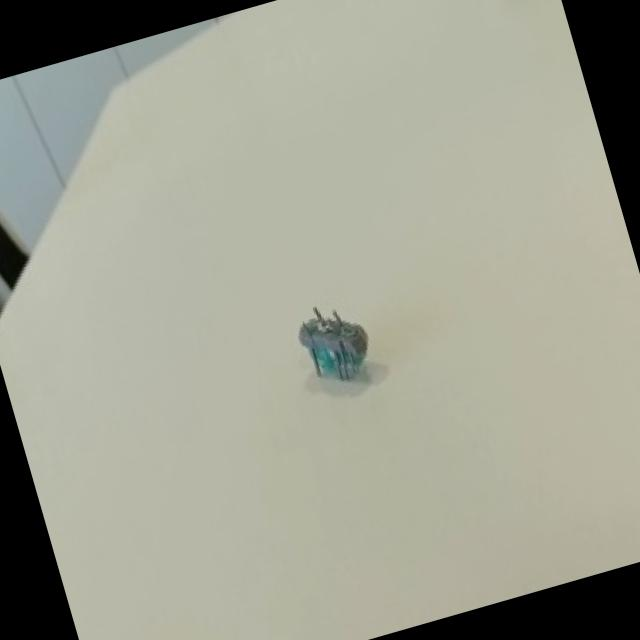5_NanoBug_GrisClaro: (272, 284, 399, 432)
